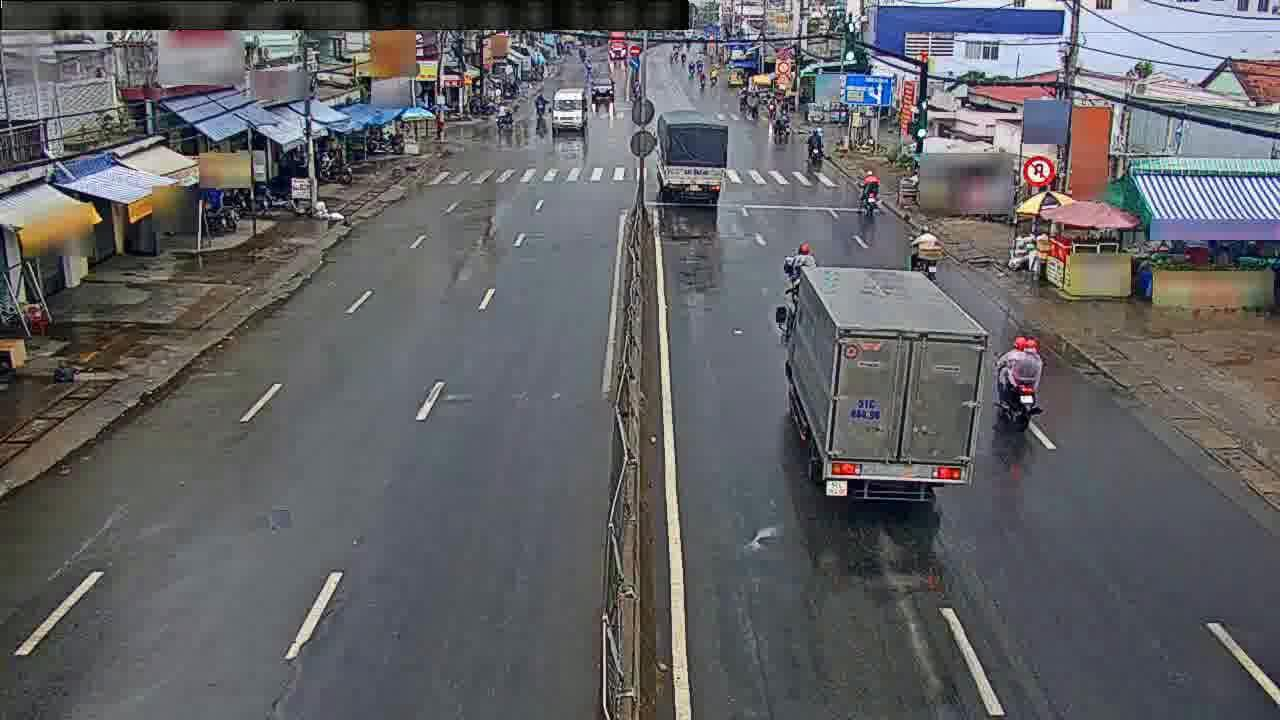container: (784, 262, 986, 505), (648, 104, 729, 201)
motorbike: (997, 327, 1037, 433), (903, 221, 948, 288), (792, 239, 820, 291), (802, 122, 827, 176), (859, 171, 880, 214)
passenger_car: (552, 83, 589, 134)
